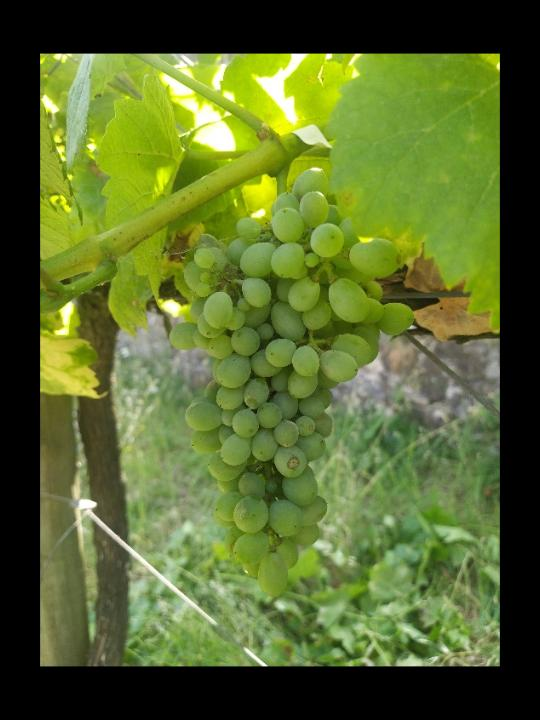grape: (164, 163, 416, 603)
